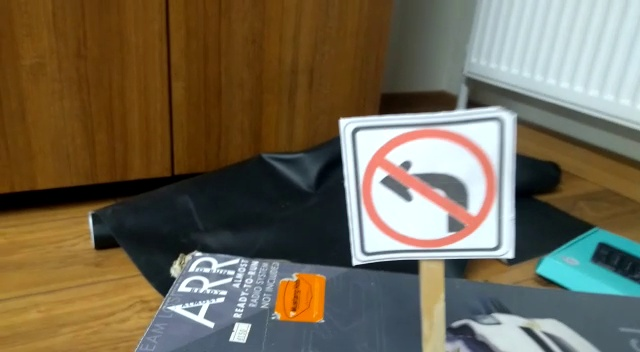sola_donulmez: (354, 116, 504, 259)
